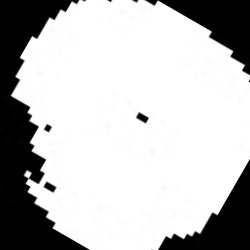spot: (10, 2, 249, 246)
